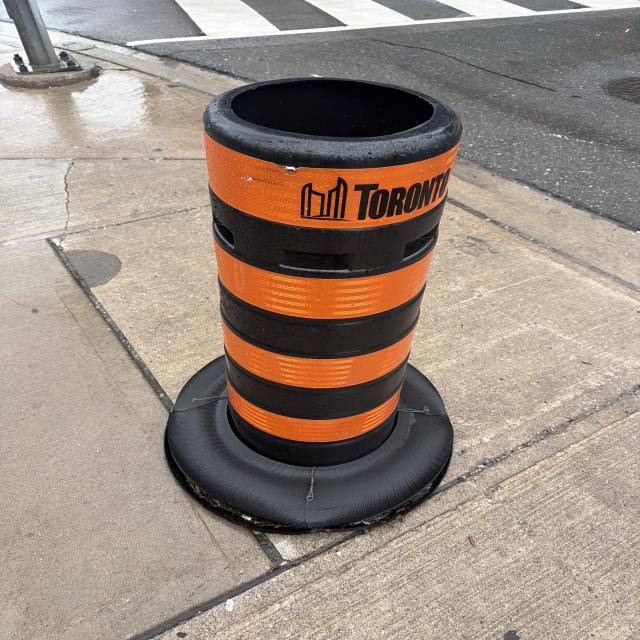Teraffic Barrel: (166, 79, 462, 532)
